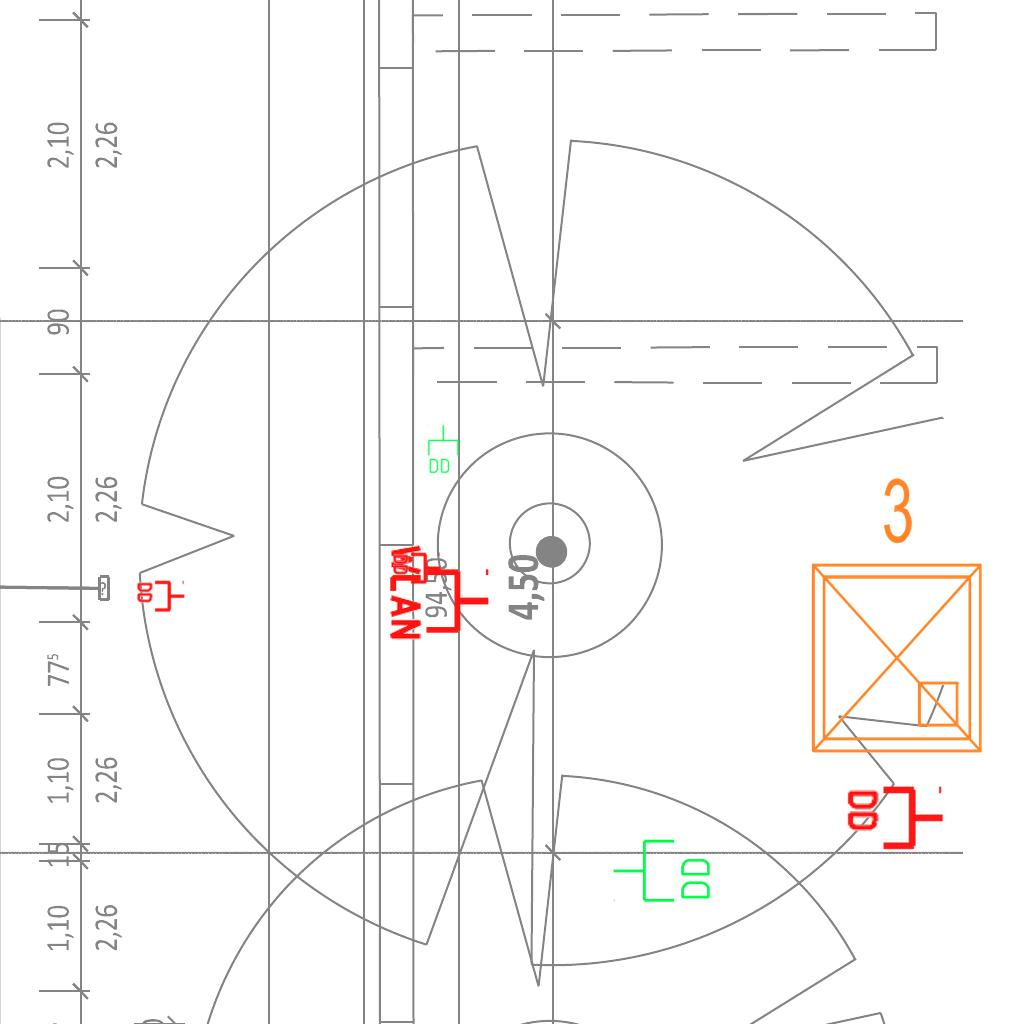Datenanschluss_zweifach: (843, 785, 946, 854), (611, 837, 714, 906), (426, 424, 460, 475), (135, 580, 186, 614), (391, 552, 442, 586)
Einbaudownlights_LED_Konferenzraeume: (789, 467, 997, 767)
WLAN: (388, 540, 493, 644)
